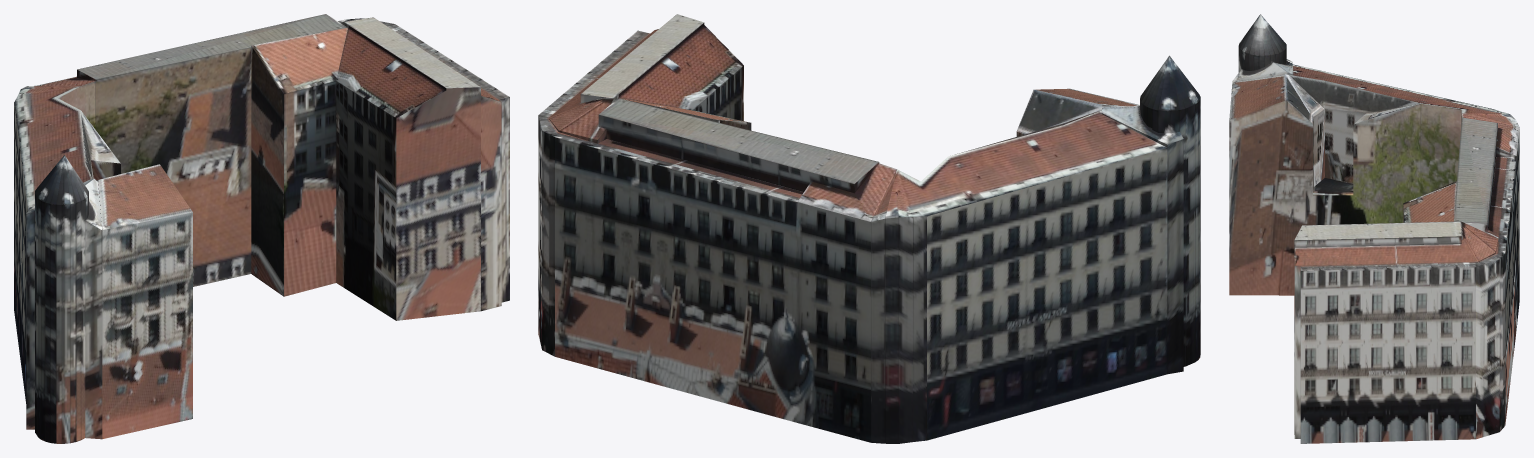
3 renders of one model, left to right at view 1: azimuth 30°, elevation 25°; view 2: azimuth 150°, elevation 25°; view 3: azimuth 270°, elevation 25°, orthographic. The views are drawn at different scales.
Visible parts, largest first — view 1: Z_UP; view 2: Z_UP; view 3: Z_UP.
Part boxes in pixels (box(x1,y1,x2,y2)): Z_UP: box(14, 14, 509, 443); Z_UP: box(538, 14, 1200, 443); Z_UP: box(1229, 14, 1519, 443).
Bounding box in the file's own units: 61.76 × 33.1 × 36.97.
Materials: 2 (1 with a texture image).
